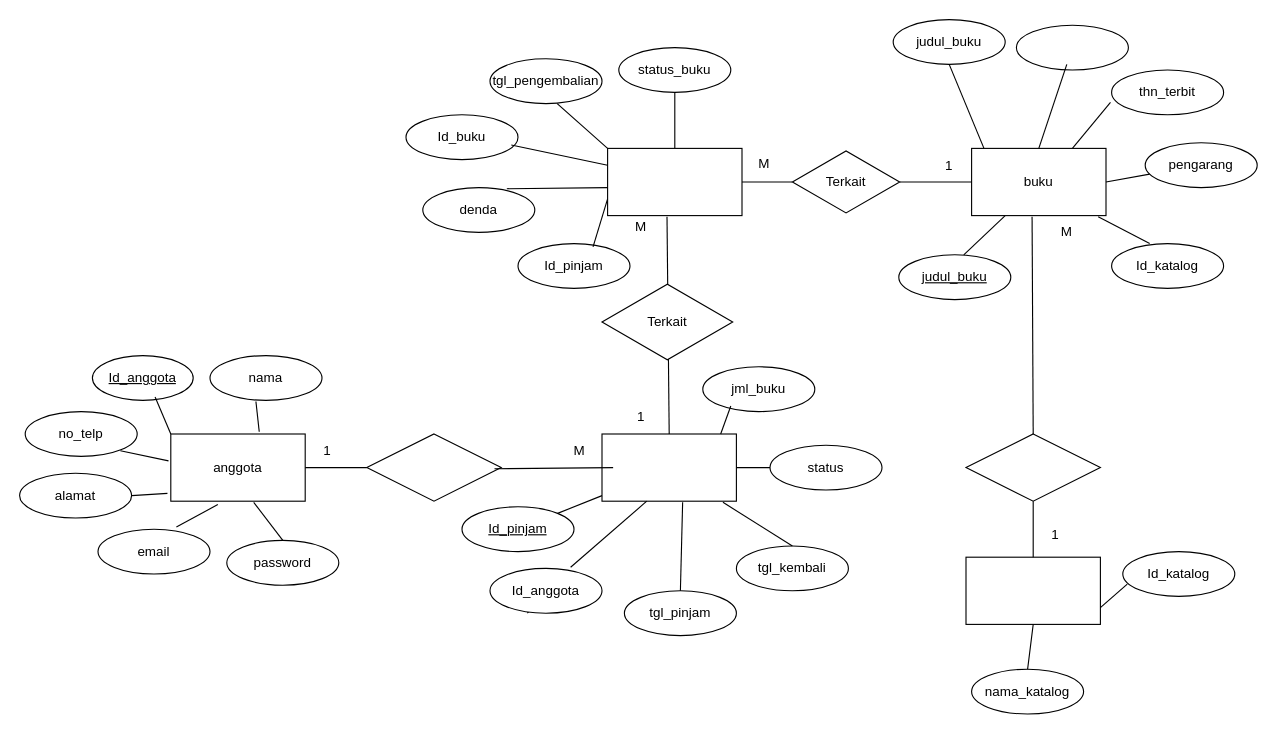
Image size: 1277x734. Some labels were removed from this diagram. Here are the shapes that lost their labels. From the top down, the centre of each, then its label:
the point at 1071,47: penerbit
the point at 674,181: detail_pinjam
the point at 433,467: Melakukan
the point at 668,467: peminjaman
the point at 1032,467: memiliki
the point at 1032,590: katalog_buku
